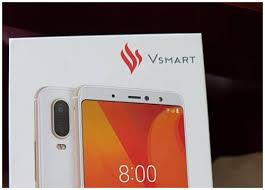vsmart: (74, 81, 192, 190)
